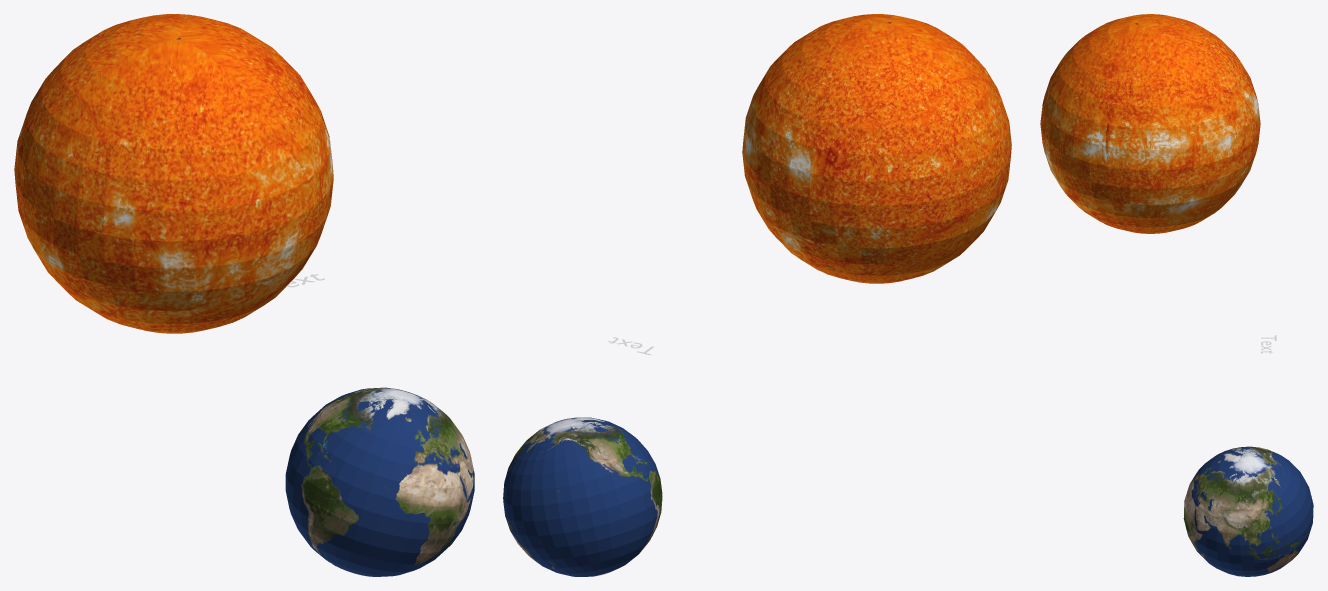
File: green house 22.gltf
The picture shows the model from 3 angles, left to right: view 1: azimuth 30°, elevation 25°; view 2: azimuth 150°, elevation 25°; view 3: azimuth 270°, elevation 25°; orthographic projection. The views are drawn at different scales.
Parts seen in each view (by area): view 1: Sphere.001, Sphere; view 2: Sphere.001, Sphere; view 3: Sphere.001, Sphere.
Boxes of the visible parts, x1,y1,x2,y2 form: Sphere.001: (14,14,333,333); Sphere: (285,387,474,576); Sphere.001: (742,14,1011,283); Sphere: (503,417,662,576); Sphere.001: (1040,14,1260,233); Sphere: (1183,446,1313,576).
Bounding box in the file's own units: 17.15 × 21.7 × 11.85.
2 materials, 2 textured.
